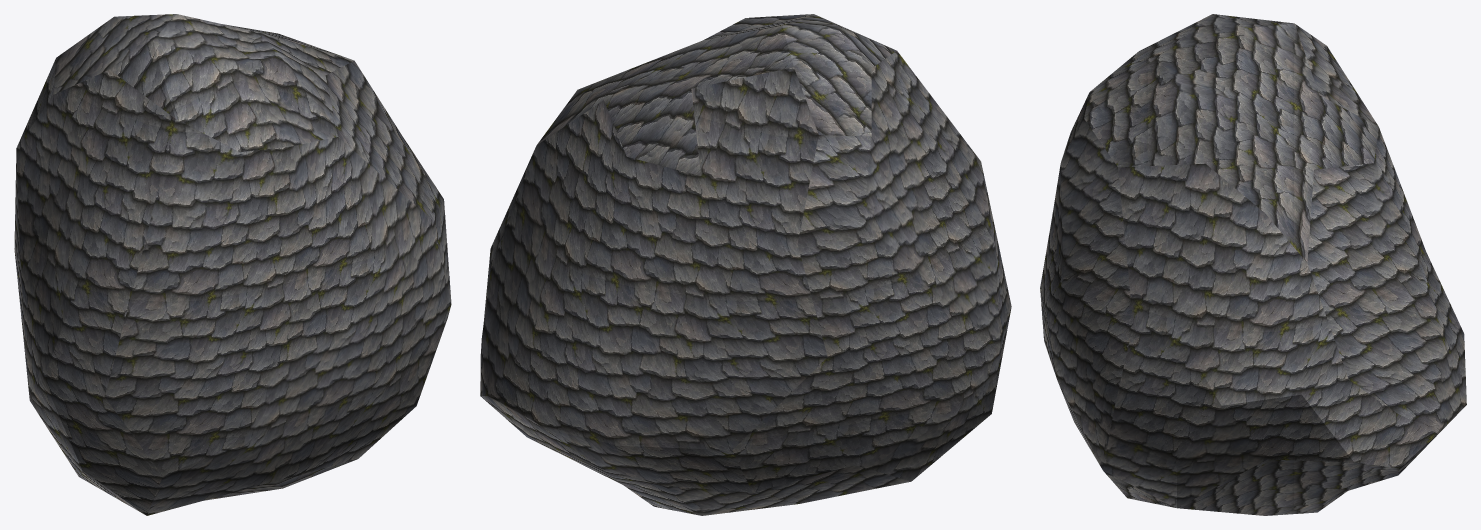
Rendered from grock_h.glb.
3 views of the same model, side by side, from view 1: azimuth 30°, elevation 25°; view 2: azimuth 150°, elevation 25°; view 3: azimuth 270°, elevation 25° (orthographic). The views are drawn at different scales.
Parts seen in each view (by area): view 1: model; view 2: model; view 3: model.
Part boxes in pixels (<box>): model: <box>14,14,451,515</box>; model: <box>480,14,1011,515</box>; model: <box>1040,14,1466,515</box>.
Size of the model in its own units: 1.95 by 2.06 by 1.75.
Materials: 1 (1 with a texture image).
